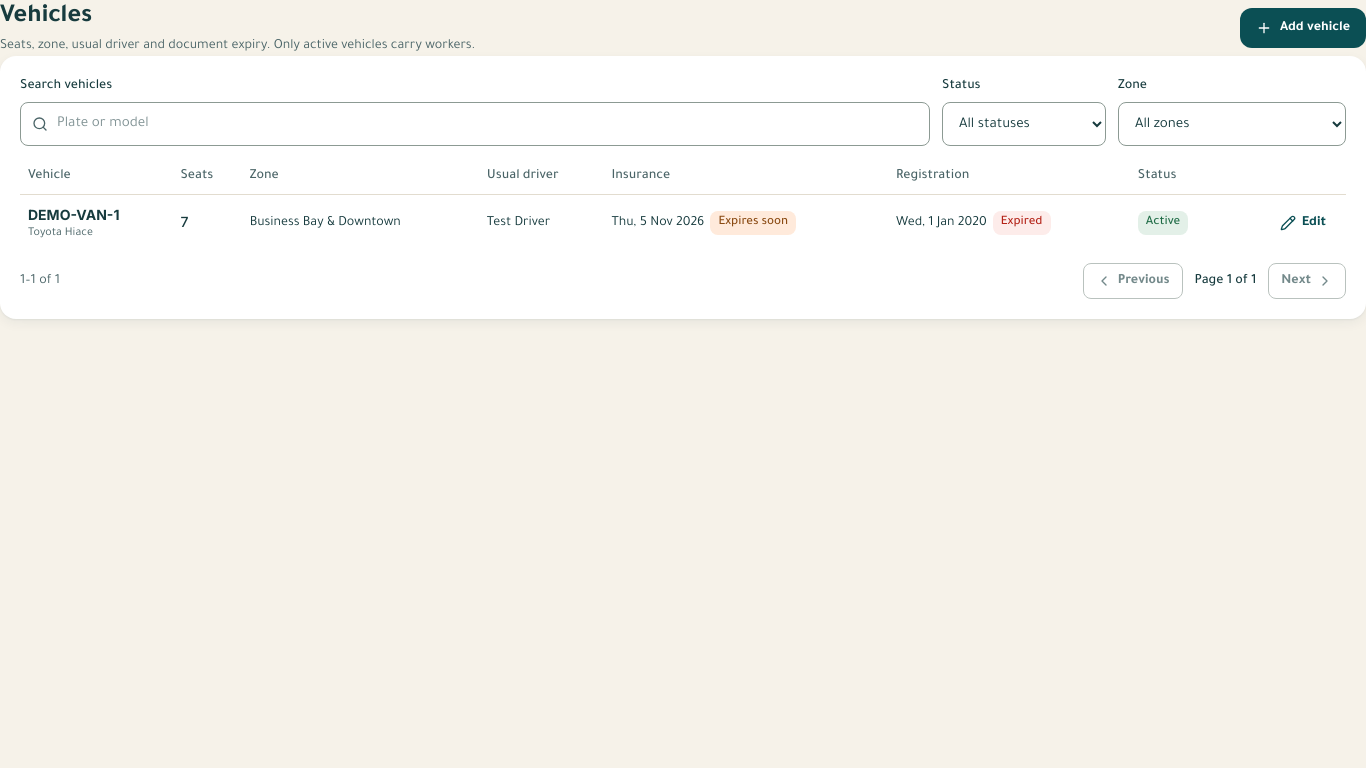
Test: operations permissions › offers as usual driver only drivers who don't drive another vehicle
Click the button "Add vehicle": (1303, 28) [1240,8,1365,48]
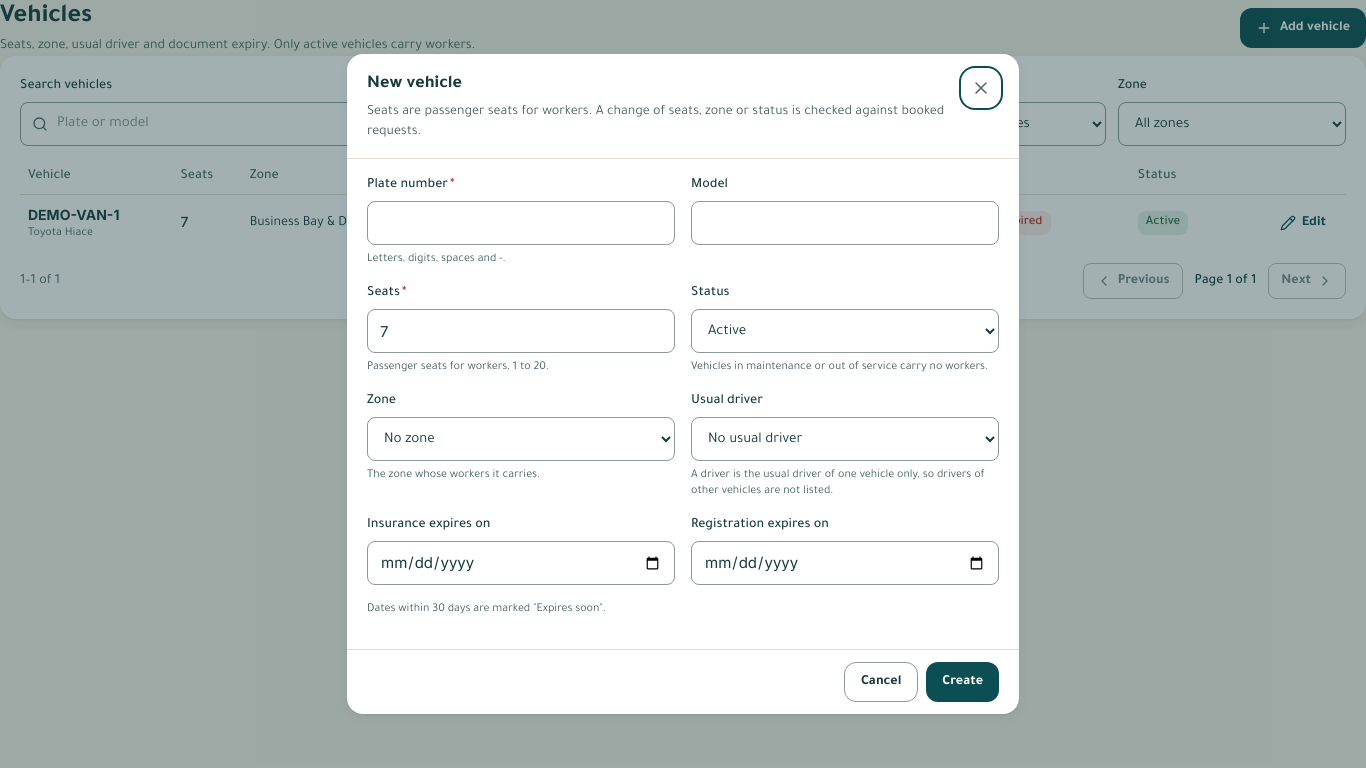
Check: the text "drivers of other vehicles are not listed" is shown, box [691,469,985,497]
